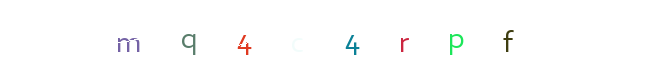4: (258, 0, 338, 80), (295, 0, 375, 80)
C: (262, 0, 342, 80)
F: (467, 0, 547, 80)
M: (104, 0, 184, 80)
P: (415, 0, 495, 80)
Q: (186, 0, 266, 80)
R: (312, 0, 392, 80)
